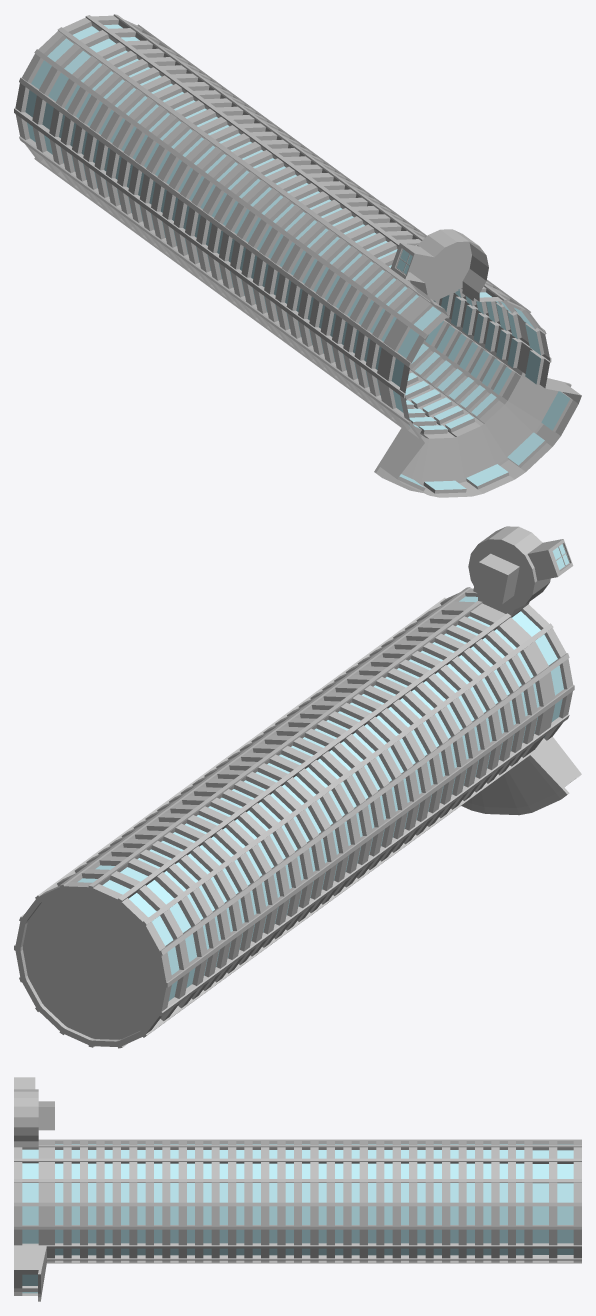
Rendered from Building_Focus Appartments.fbx.
3 renders of one model, top to bottom at view 1: azimuth 30°, elevation 25°; view 2: azimuth 150°, elevation 25°; view 3: azimuth 270°, elevation 25°, orthographic. The views are drawn at different scales.
Parts seen in each view (by area): view 1: Cylinder; view 2: Cylinder; view 3: Cylinder.
Boxes of the visible parts, left/top/right/bottom form: Cylinder: left=14, top=14, right=581, bottom=497; Cylinder: left=14, top=526, right=581, bottom=1048; Cylinder: left=14, top=1077, right=581, bottom=1301.
Size of the model in its own units: 37.66 by 48.76 by 130.
